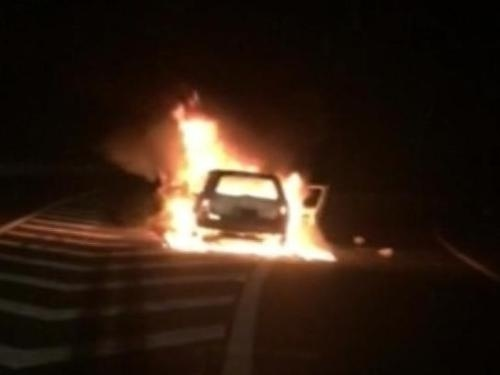fire: (155, 102, 333, 263)
